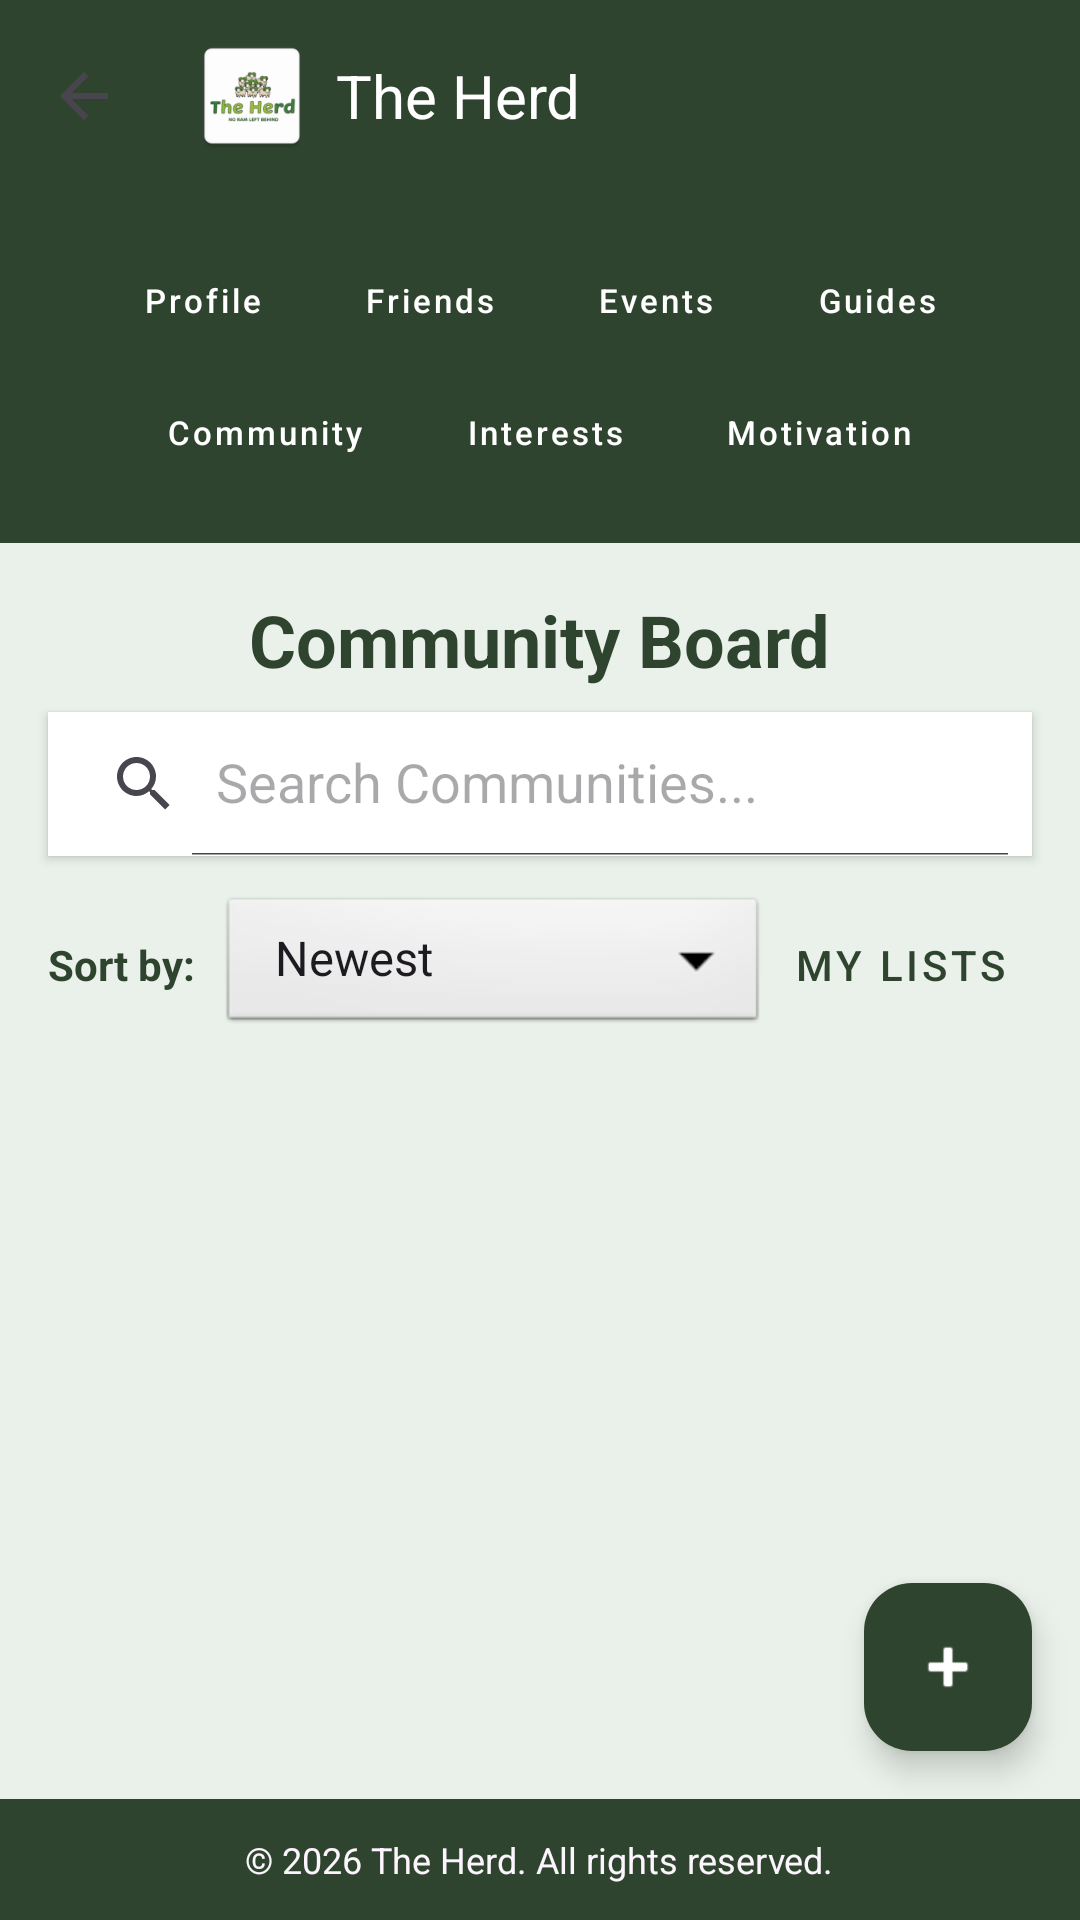

Named icons in this screenshot (1080*1920) and their bounding boxes, (x1, y1, x2, y2):
Add Community: (864, 1583, 1032, 1751)
